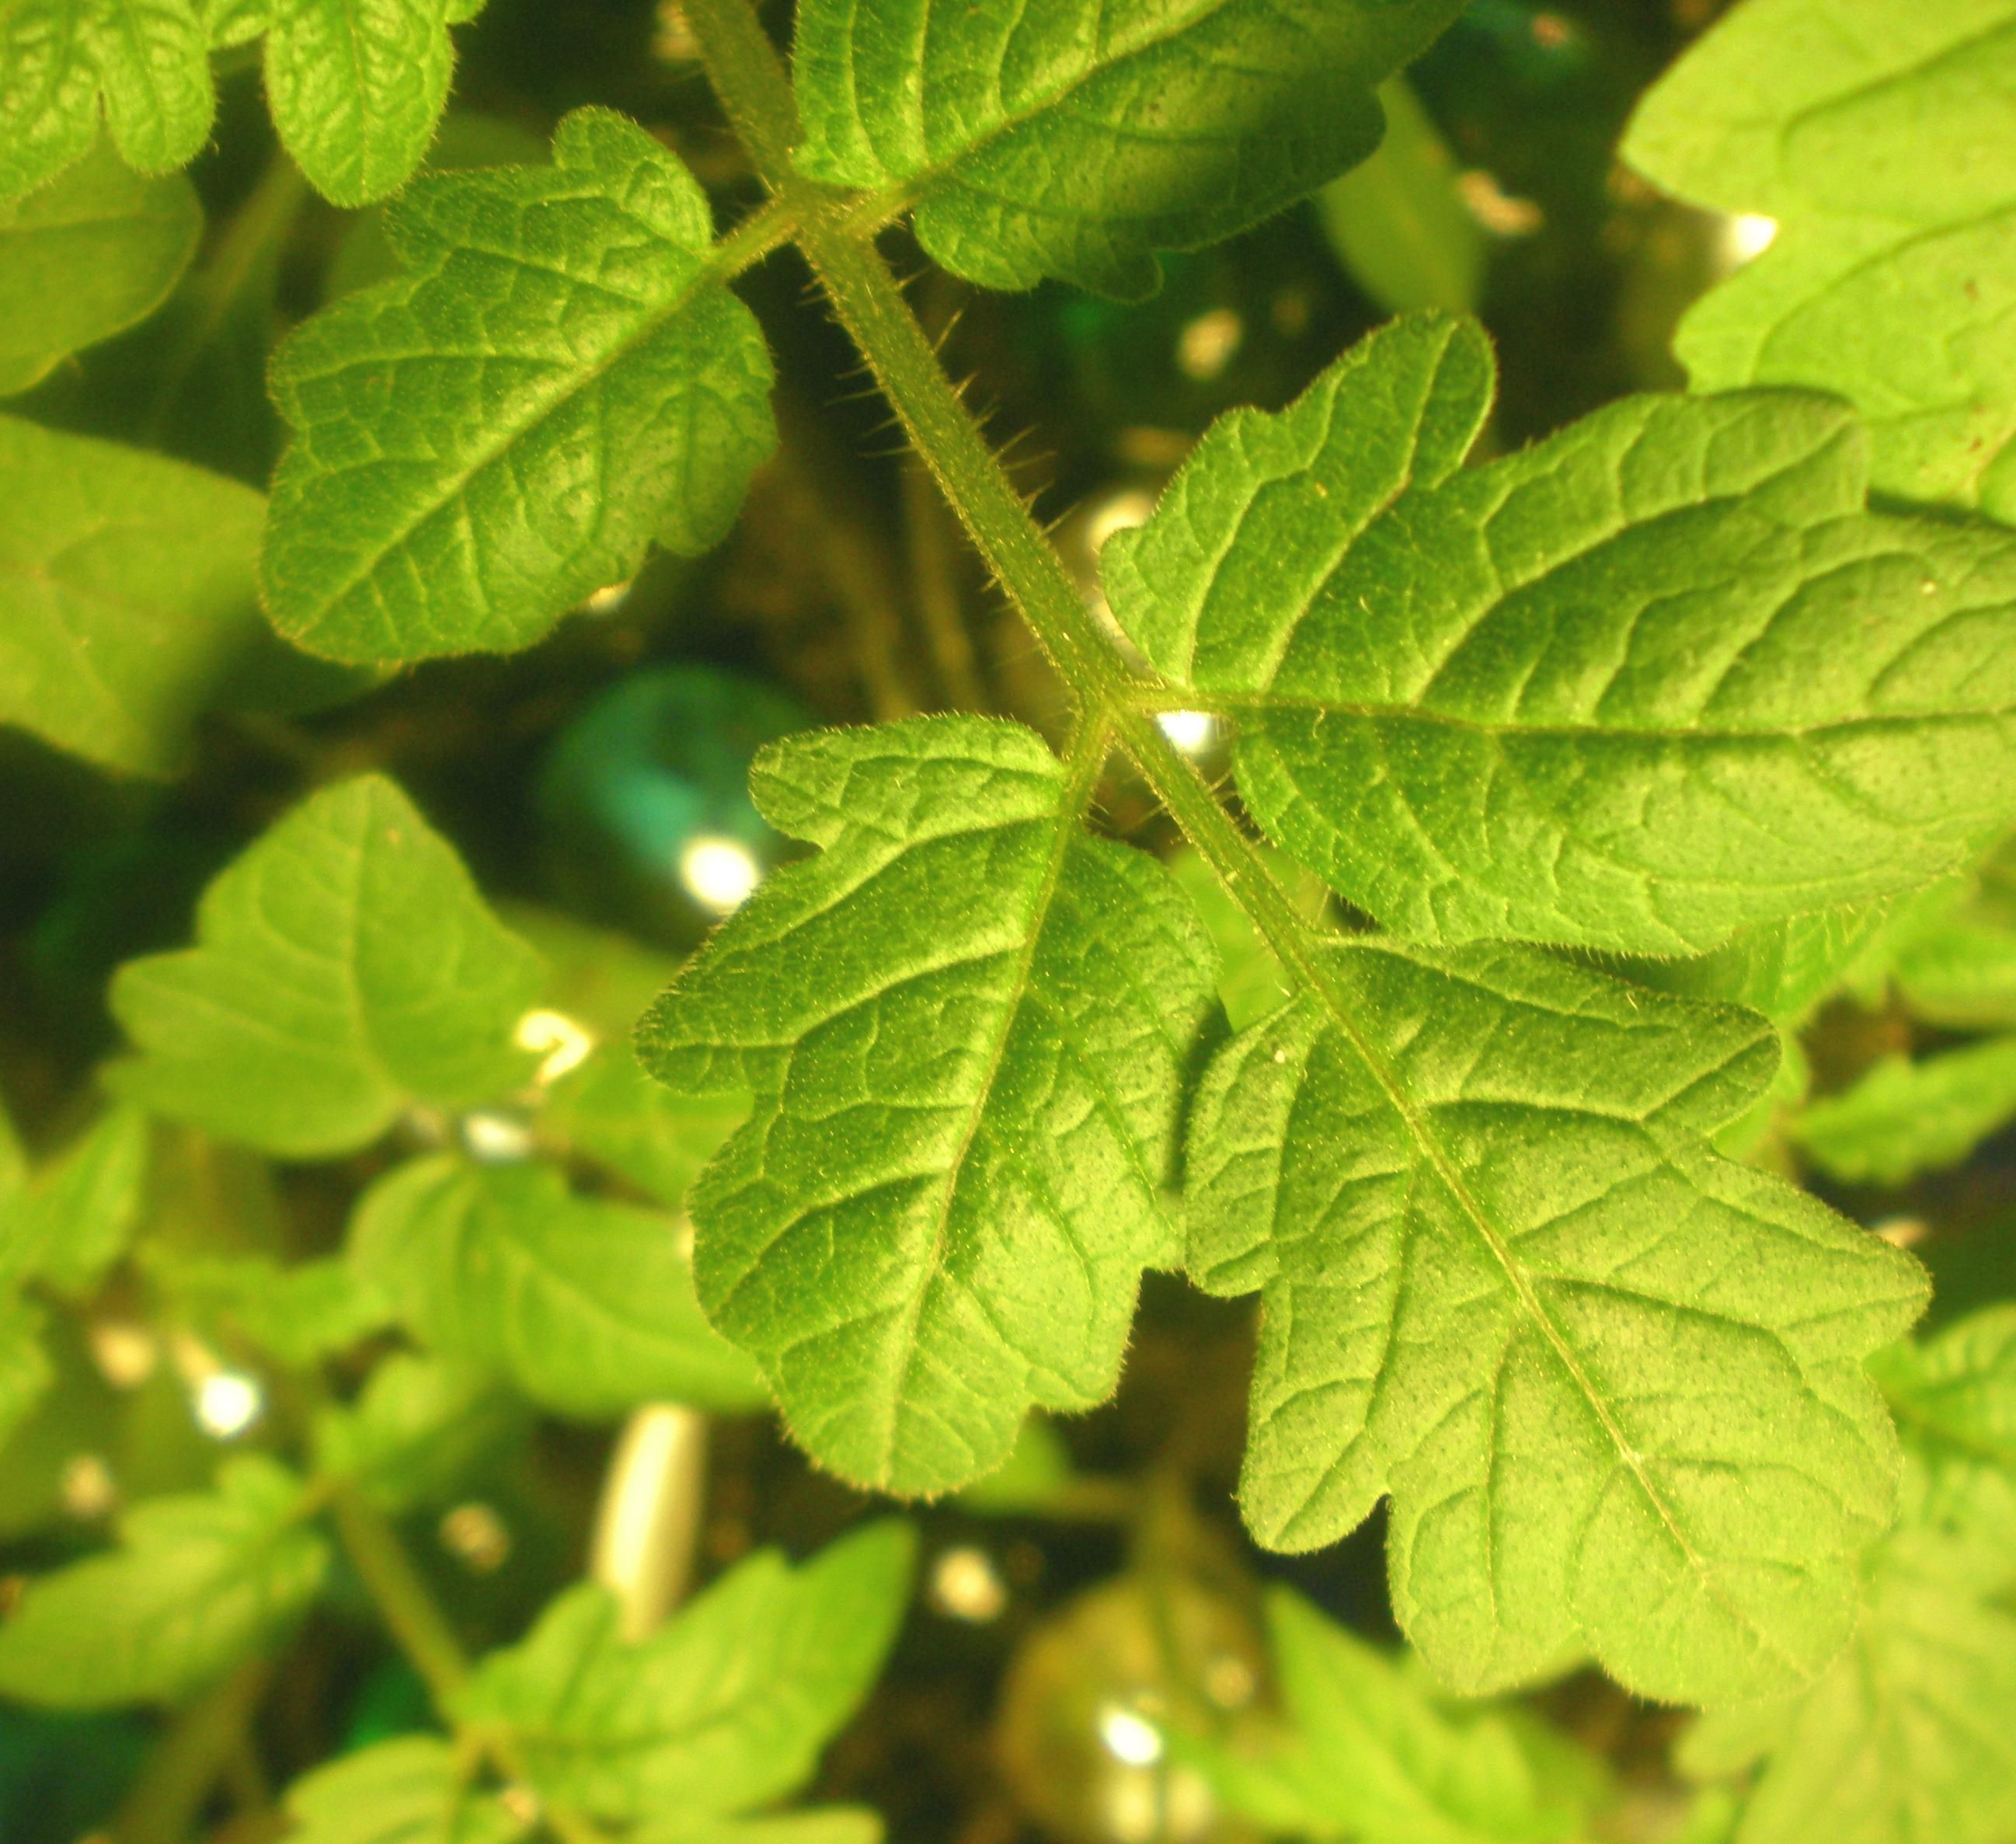Tomato leaf: (1199, 901, 1928, 1726), (1080, 325, 2016, 940), (634, 629, 1254, 1523), (204, 156, 845, 717), (778, 0, 1517, 327), (97, 760, 599, 1168), (437, 1519, 948, 1844), (342, 1143, 790, 1463)
